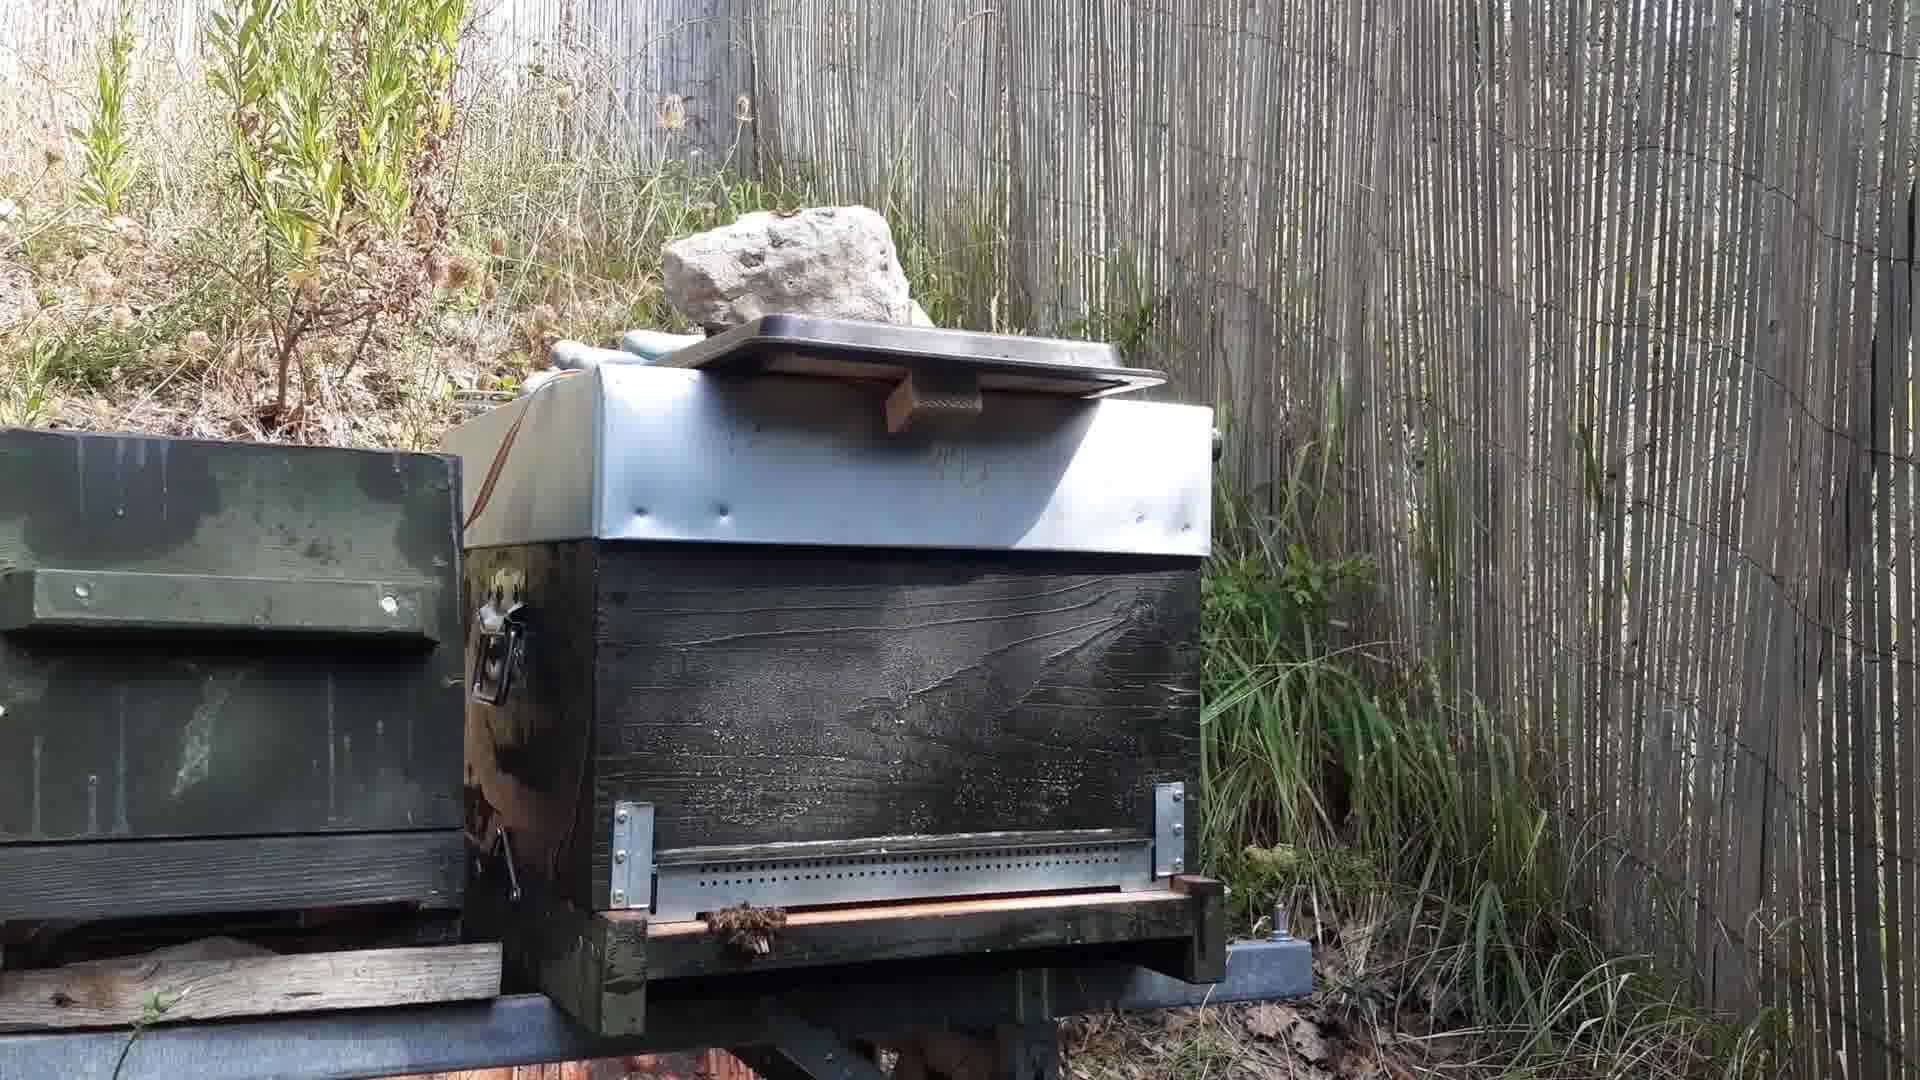bee: (705, 899, 793, 960)
